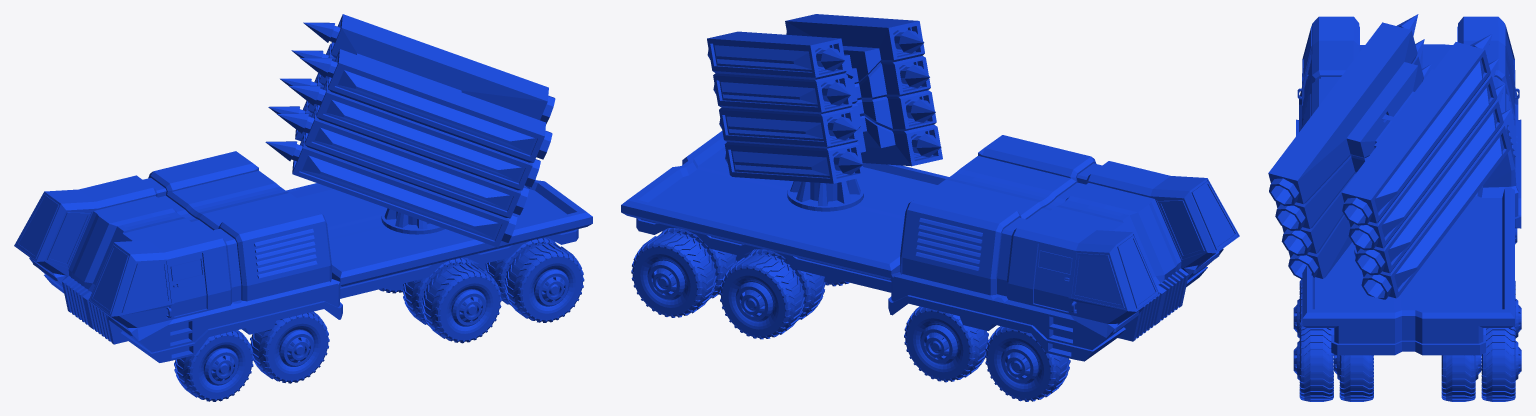
Rendered from PLAYER_UnitHeavy_00_2023-10-28.fbx.
The picture shows the model from 3 angles, left to right: view 1: azimuth 30°, elevation 25°; view 2: azimuth 150°, elevation 25°; view 3: azimuth 270°, elevation 25°; orthographic projection. The views are drawn at different scales.
Visible parts, largest first — view 1: HU; view 2: HU; view 3: HU.
Part boxes in pixels (x1,y1,x2,y2): HU: [14, 14, 592, 401]; HU: [621, 14, 1239, 401]; HU: [1268, 14, 1521, 401].
Bounding box in the file's own units: 473 × 258 × 207.
